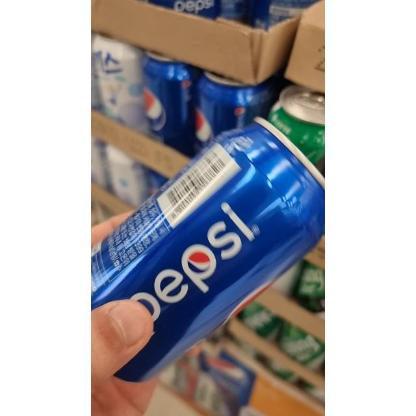Can: (90, 117, 322, 387)
